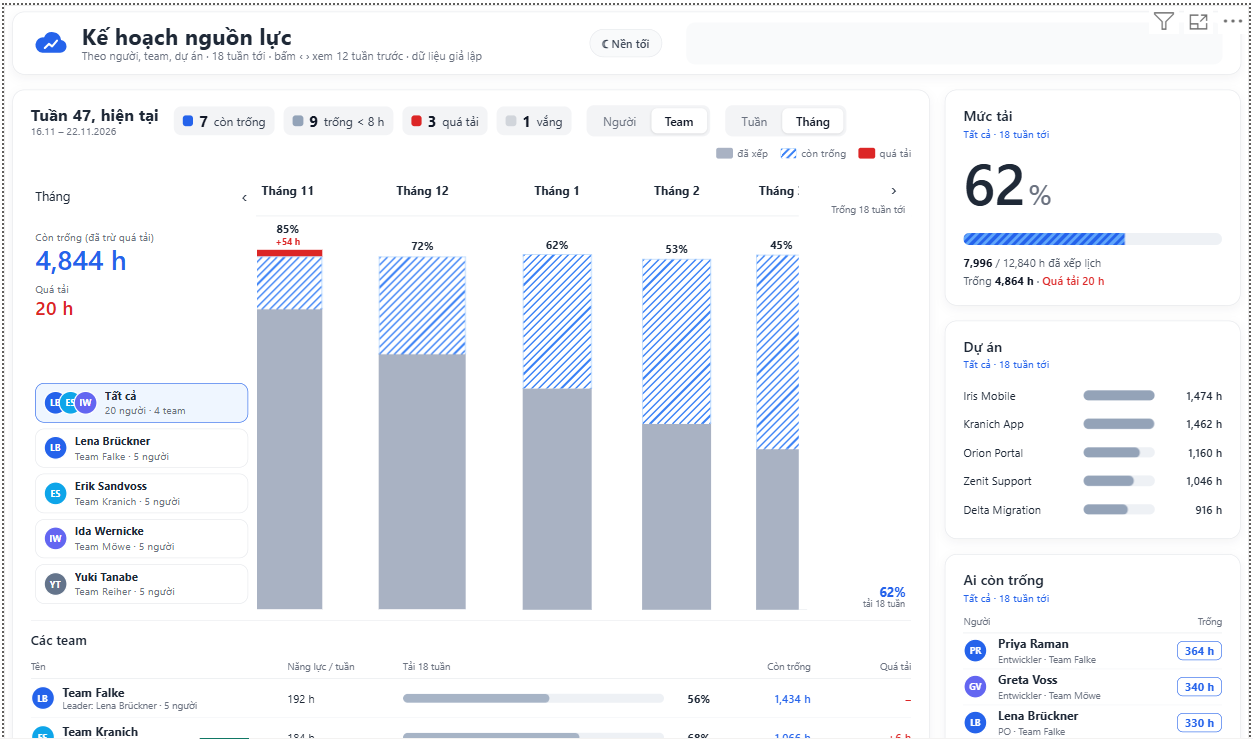

This screenshot's page, from the dashboard's own definition file:
{"tool":"powerbi","page":{"name":"Page 1","canvas":[1660,1720],"ordinal":0},"visuals":[{"type":"htmlContent443BE3AD55E043BF878BED274D3A6855","fields":{"content":["_Measure.HTML Ressourcenplanung"]},"box":[0,0,1660,1720],"z":0}]}

Visuals, with their boxes in screenshot pixels (x1, y1, x2, y2):
htmlContent443BE3AD55E043BF878BED274D3A6855 - _Measure.HTML Ressourcenplanung: bbox=(3, 0, 705, 727)
